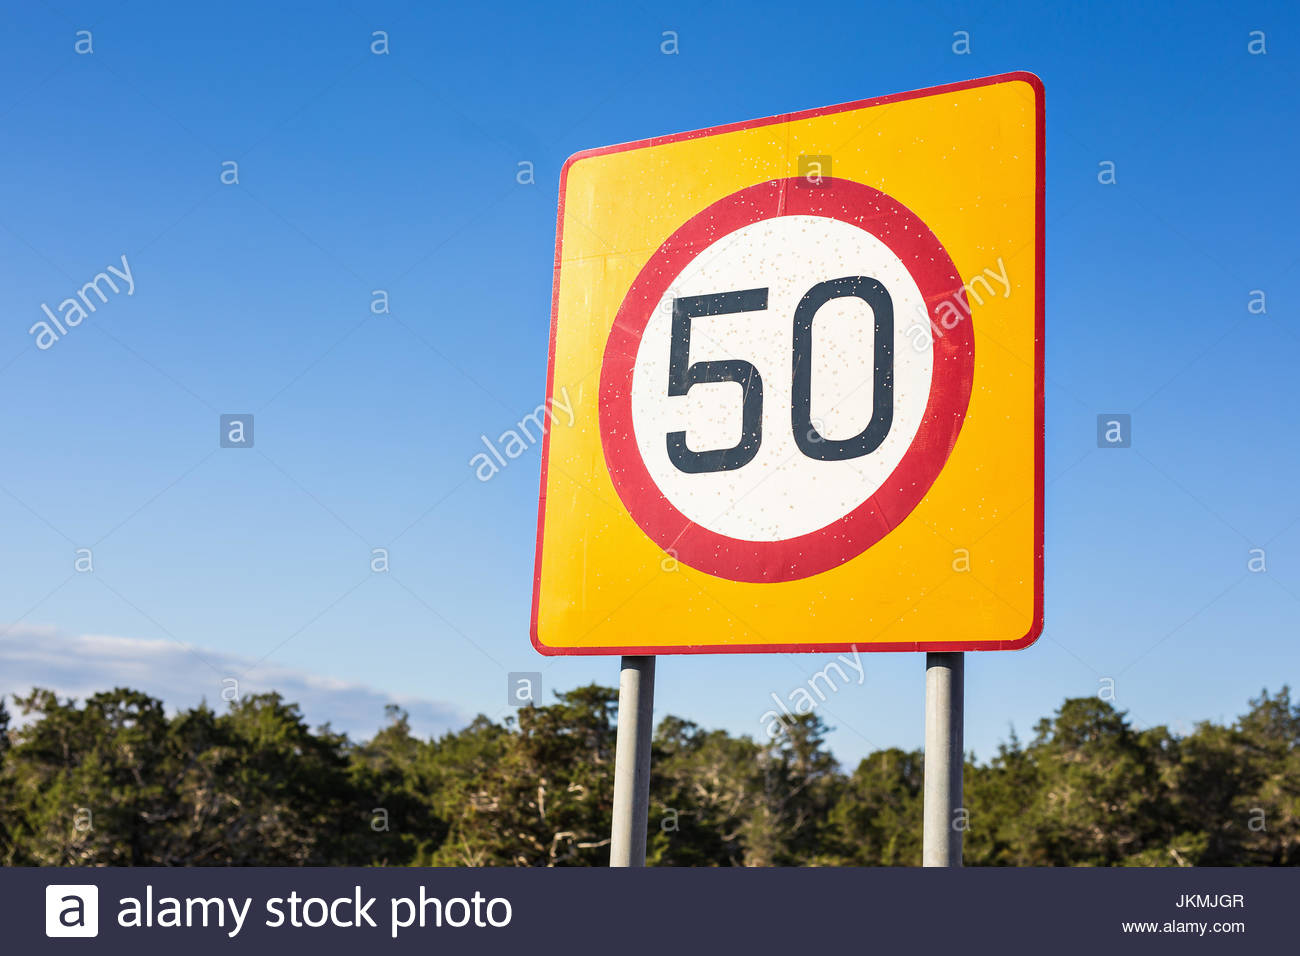Speed_limit_50km: (593, 179, 978, 588)
